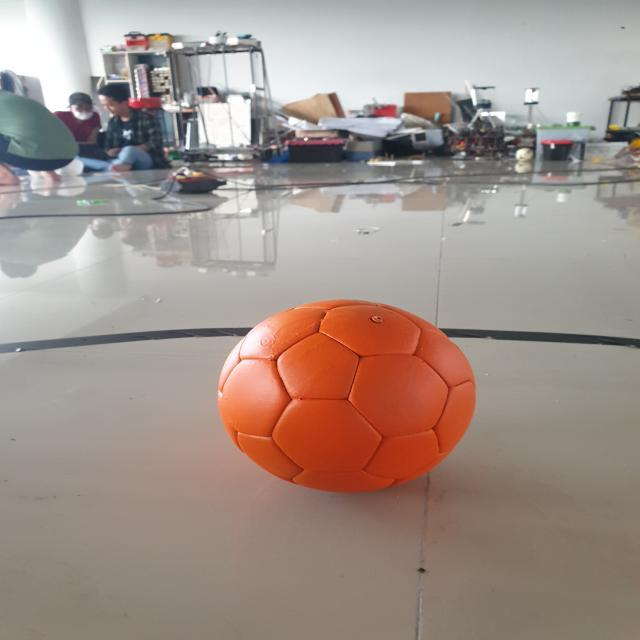bola: (211, 289, 484, 505)
